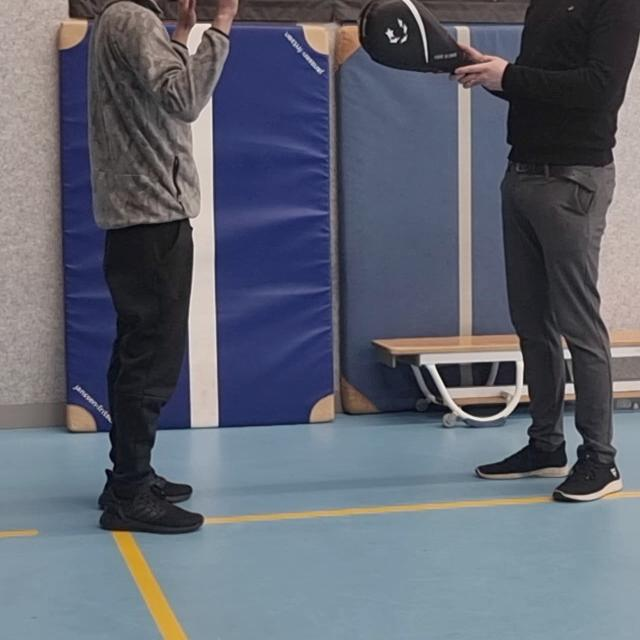paddle: (358, 0, 484, 76)
